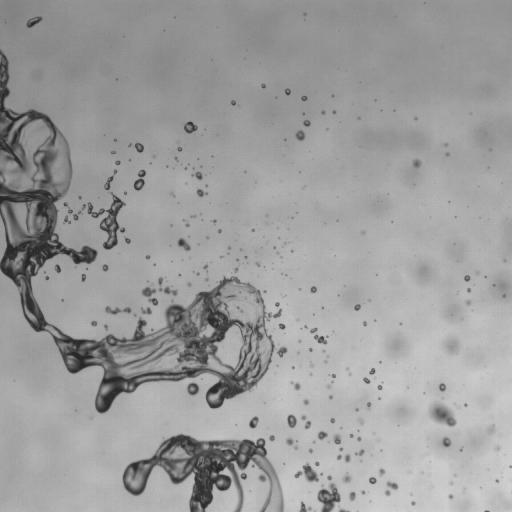droplet: (64, 193, 125, 249), (141, 277, 177, 305), (428, 401, 456, 427), (317, 483, 340, 511), (294, 463, 318, 482), (443, 337, 459, 354), (385, 481, 398, 495), (177, 238, 190, 250), (187, 382, 199, 395), (184, 122, 197, 133), (301, 415, 311, 428), (287, 414, 296, 427), (249, 416, 258, 428), (299, 502, 311, 511), (337, 454, 350, 462), (295, 130, 305, 140), (192, 171, 202, 180), (342, 473, 351, 482), (196, 189, 206, 197), (317, 431, 327, 439), (333, 434, 341, 444), (442, 437, 450, 447), (135, 143, 143, 152), (291, 382, 300, 390), (487, 425, 495, 434), (141, 307, 151, 314), (413, 159, 421, 167), (349, 491, 355, 501), (355, 449, 364, 455), (286, 438, 293, 445), (439, 383, 445, 391), (303, 120, 310, 126), (102, 264, 108, 271), (310, 286, 316, 293), (363, 377, 370, 383), (379, 468, 385, 475), (369, 477, 376, 483), (55, 264, 60, 272), (124, 237, 130, 243), (464, 275, 470, 281), (354, 304, 360, 310), (279, 323, 285, 329), (369, 368, 375, 374), (269, 435, 274, 441), (81, 274, 85, 281), (285, 89, 290, 94), (115, 160, 120, 165), (64, 217, 69, 222), (466, 300, 471, 305), (91, 321, 96, 326), (377, 384, 382, 389), (303, 399, 308, 404), (495, 445, 500, 450), (448, 494, 453, 499), (301, 96, 307, 100), (203, 264, 207, 270), (359, 418, 363, 424), (367, 402, 370, 409), (231, 100, 235, 105), (234, 267, 238, 272), (315, 461, 319, 466), (327, 475, 331, 480), (261, 83, 265, 87), (321, 110, 325, 114), (177, 147, 181, 151), (445, 152, 449, 156), (212, 219, 216, 223), (187, 282, 191, 286), (104, 325, 108, 329), (330, 418, 334, 422), (357, 437, 361, 441), (361, 490, 365, 494), (411, 501, 415, 505), (146, 255, 149, 259), (363, 321, 366, 325), (331, 374, 335, 377), (327, 384, 330, 388), (294, 445, 297, 449), (256, 263, 259, 266), (45, 276, 48, 279), (339, 447, 342, 450), (309, 449, 312, 452), (508, 505, 511, 508), (128, 144, 131, 146), (175, 157, 177, 160), (218, 230, 221, 232), (467, 289, 470, 291), (309, 348, 311, 351), (329, 396, 332, 398), (464, 404, 467, 406), (350, 434, 352, 437), (460, 447, 462, 450), (496, 479, 498, 482), (333, 111, 335, 113), (445, 143, 447, 145), (112, 151, 114, 153), (79, 196, 81, 198), (192, 215, 194, 217), (298, 340, 300, 342), (311, 364, 313, 366), (346, 368, 348, 370)
ligament: (0, 49, 287, 413), (122, 435, 283, 511), (310, 328, 326, 344), (104, 170, 116, 190), (134, 169, 145, 190), (105, 306, 131, 314), (26, 16, 41, 27), (236, 306, 244, 314), (338, 507, 349, 511), (184, 220, 189, 226), (485, 510, 489, 511), (510, 465, 511, 468)
